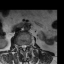CCS_normal: (23, 43, 24, 52)
LFS_stenosis: (27, 43, 29, 48)
LLS_normal: (24, 43, 27, 49)
RFS_stenosis: (18, 44, 21, 49)
RLS_normal: (21, 43, 23, 50)
